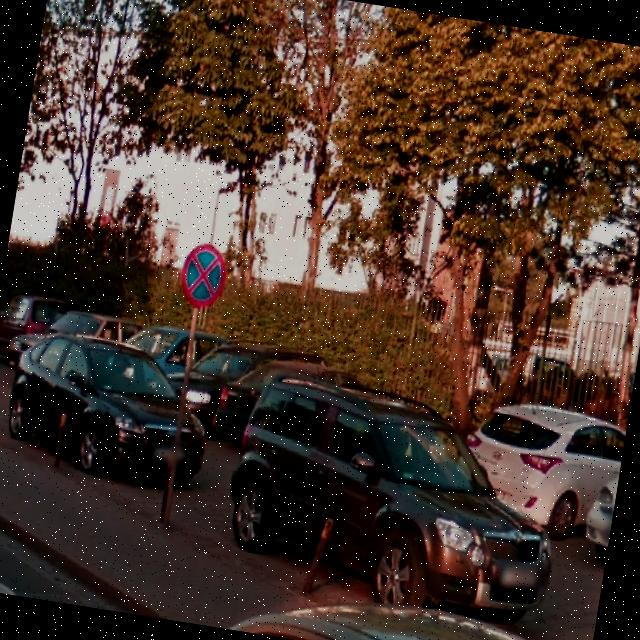Zakaz zatrzymywania sie: (177, 237, 230, 309)
